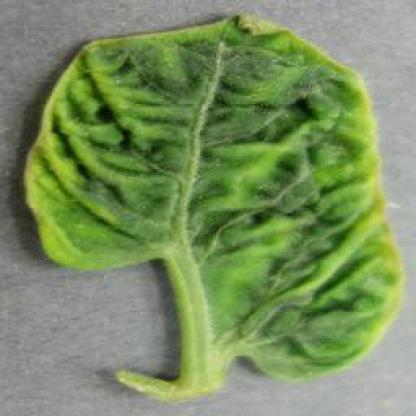bad leaf: (18, 22, 372, 174), (149, 166, 383, 384), (22, 132, 181, 283)
